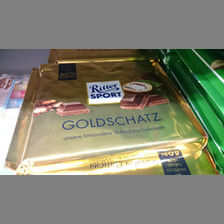chocolate: (23, 61, 207, 166)
